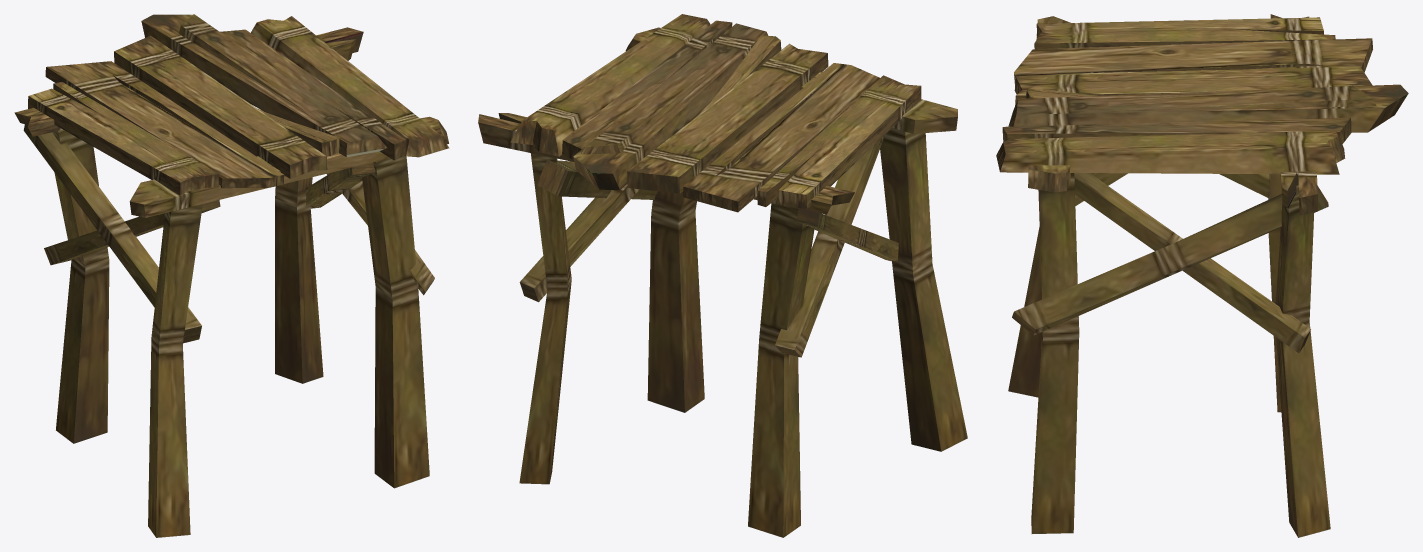
Rendered from CO_A_TreeBridge01.FBX.
3 renders of one model, left to right at view 1: azimuth 30°, elevation 25°; view 2: azimuth 150°, elevation 25°; view 3: azimuth 270°, elevation 25°, orthographic. The views are drawn at different scales.
Parts seen in each view (by area): view 1: CO_A_TreeBridge01; view 2: CO_A_TreeBridge01; view 3: CO_A_TreeBridge01.
Boxes of the visible parts, x1=… form: CO_A_TreeBridge01: x1=14, y1=14, x2=449, y2=537; CO_A_TreeBridge01: x1=478, y1=14, x2=967, y2=537; CO_A_TreeBridge01: x1=996, y1=14, x2=1408, y2=537.
Size of the model in its own units: 209 by 211 by 197.
